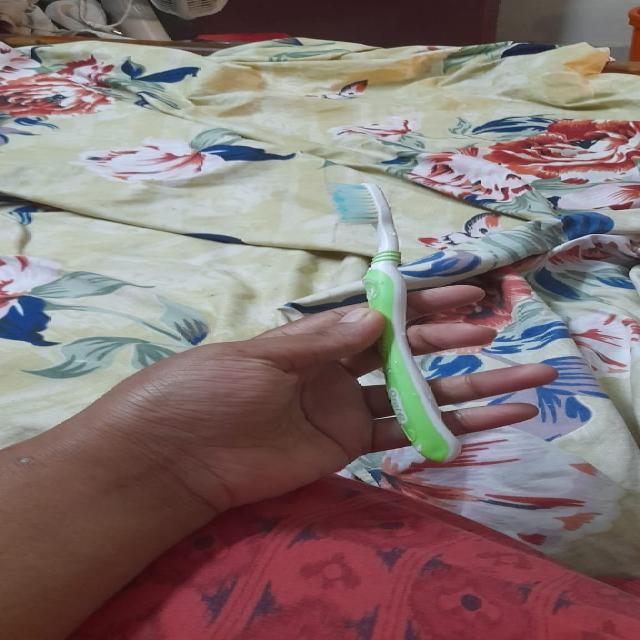Tooth_Brush - Non Recyclable: (290, 174, 478, 487)
